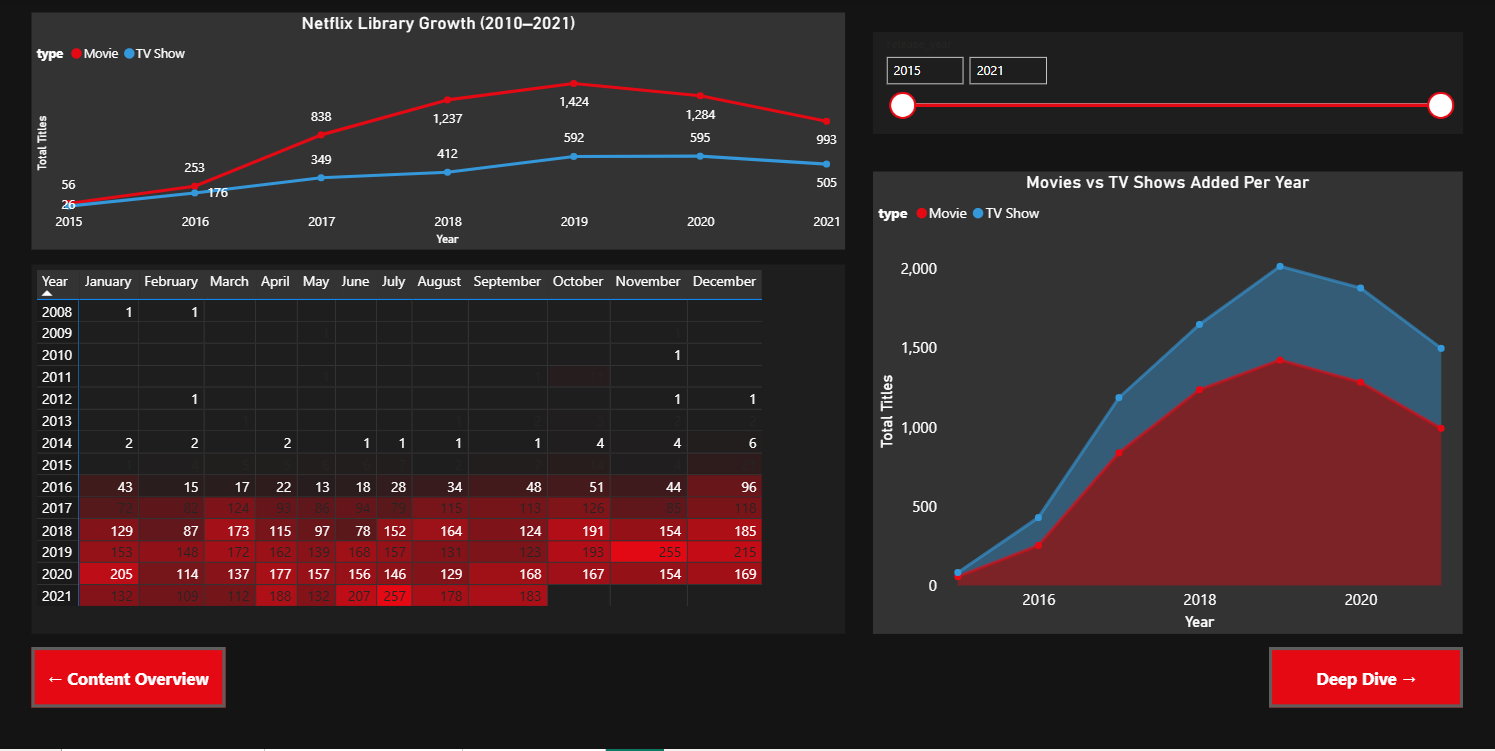

Layout of this report page (visuals, bound fields, positions):
{"tool":"powerbi","page":{"name":"Trends & Growth","canvas":[1440,720],"ordinal":1},"visuals":[{"type":"lineChart","title":"Netflix Library Growth (2010–2021)","fields":{"Y":["Measures (2).Total Titles"],"Series":["netflix_titles.type"],"Category":["netflix_titles.year_added"]},"box":[30.4,13,779.9,227.6],"z":0},{"type":"stackedAreaChart","title":"Movies vs TV Shows Added Per Year","fields":{"Y":["Measures (2).Total Titles"],"Series":["netflix_titles.type"],"Category":["netflix_titles.year_added"]},"box":[836.5,165.3,565.4,443.6],"z":1000},{"type":"pivotTable","title":"Monthly Content Addition Heatmap","fields":{"Values":["Measures (2).Total Titles"],"Rows":["netflix_titles.year_added"],"Columns":["netflix_titles.month_name"]},"box":[30.4,255.1,779.9,353.7],"z":2000},{"type":"slicer","fields":{"Values":["netflix_titles.release_year"]},"box":[836.5,31.9,565.4,97.1],"z":3000},{"type":"actionButton","title":"Content Overview","box":[30.4,621.9,186,58],"z":4000},{"type":"actionButton","title":"Content Overview","box":[1216.3,621.9,186,58],"z":5000}]}

Visuals, with their boxes in screenshot pixels (x1, y1, x2, y2), scaled from the page's 1440x720 canvas onto the 1495x751 screenshot:
"Netflix Library Growth (2010–2021)" lineChart: 32 14 841 251
"Movies vs TV Shows Added Per Year" stackedAreaChart: 868 172 1455 635
"Monthly Content Addition Heatmap" pivotTable: 32 266 841 635
slicer - netflix_titles.release_year: 868 33 1455 135
"Content Overview" actionButton: 32 649 225 709
"Content Overview" actionButton: 1263 649 1456 709
